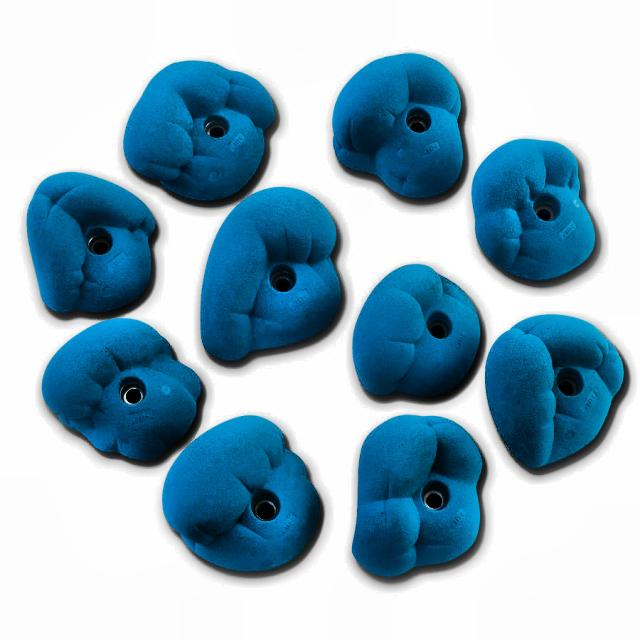Hold: (155, 414, 324, 576), (199, 185, 340, 367), (122, 52, 286, 197), (327, 46, 474, 203), (36, 318, 196, 461), (348, 412, 486, 574), (490, 309, 624, 473), (27, 165, 157, 311), (473, 135, 599, 279), (358, 264, 483, 400)
